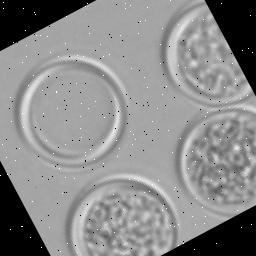picoshell: (15, 53, 129, 172), (161, 0, 254, 106), (176, 102, 256, 219), (67, 172, 177, 256)
